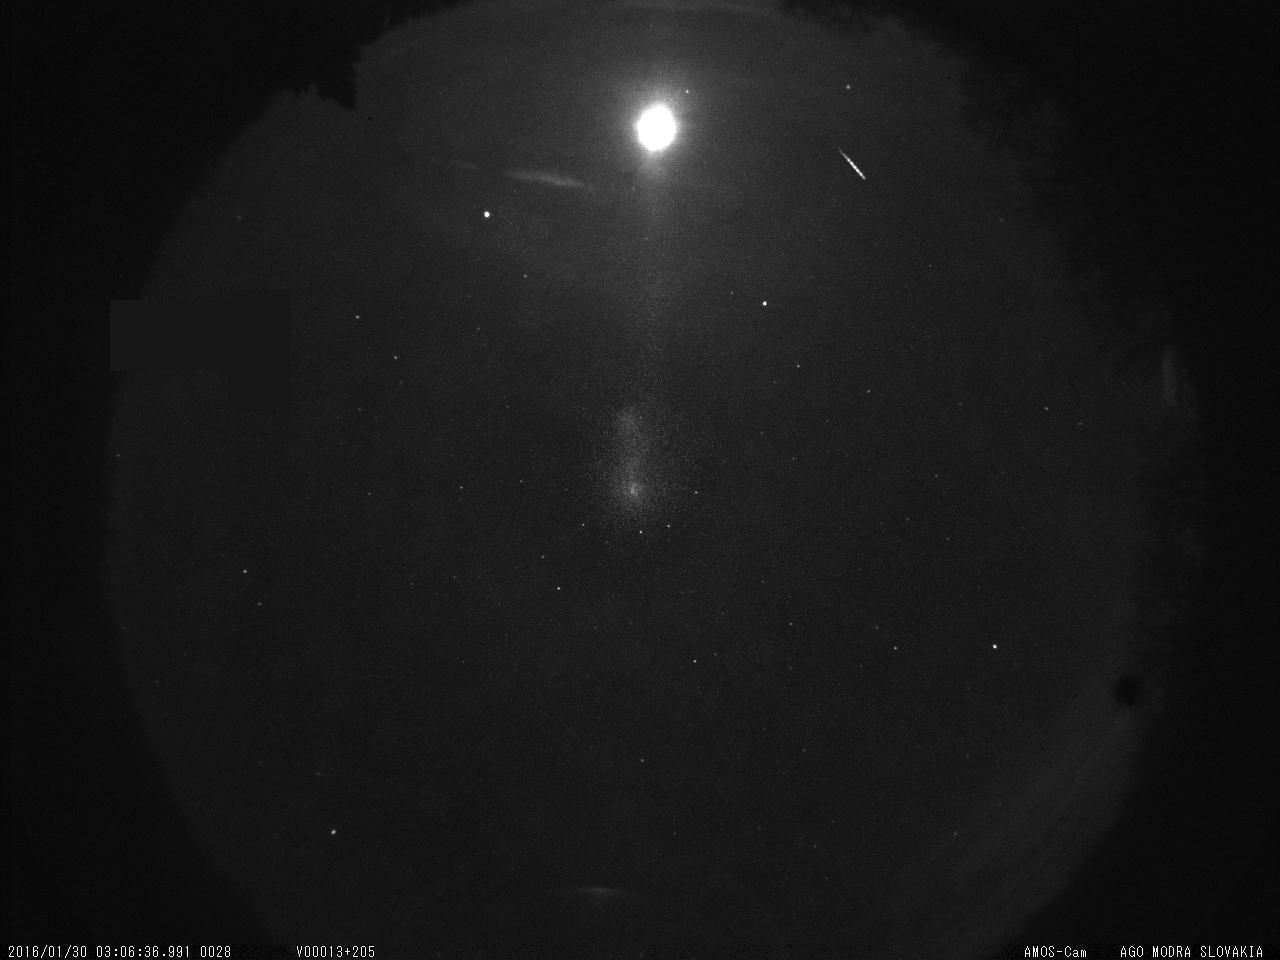Meteor: (831, 136, 875, 189)
